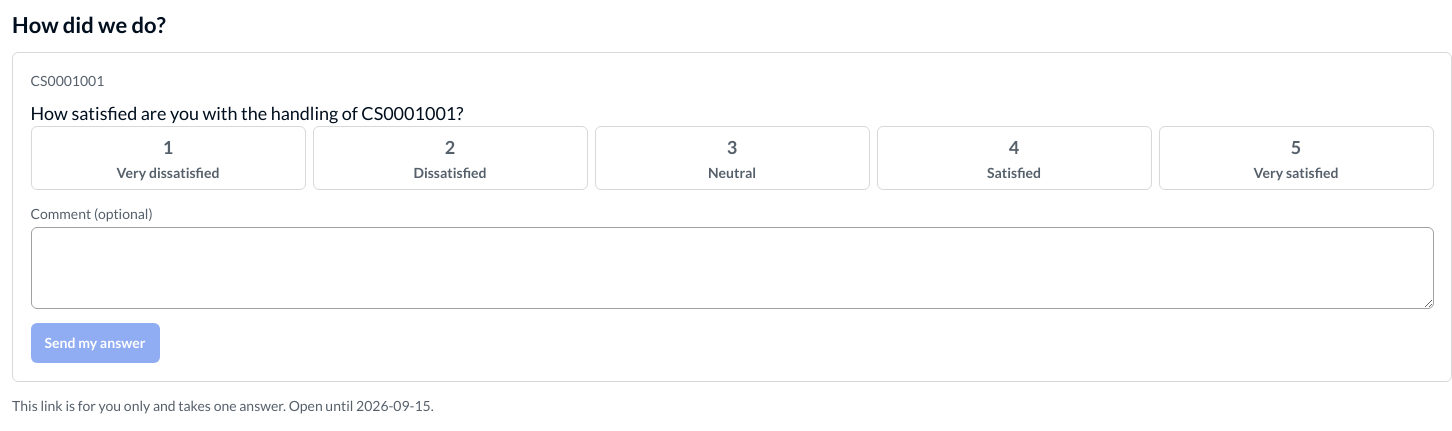
Test case: survey email link › posts the token with the score and the comment to the link route and thanks the visitor
This screenshot has width=1452, height=431.
Click the button with aria-label "5, Very satisfied" at coordinates (1296, 158), box x1=1158 y1=126 x2=1434 y2=190
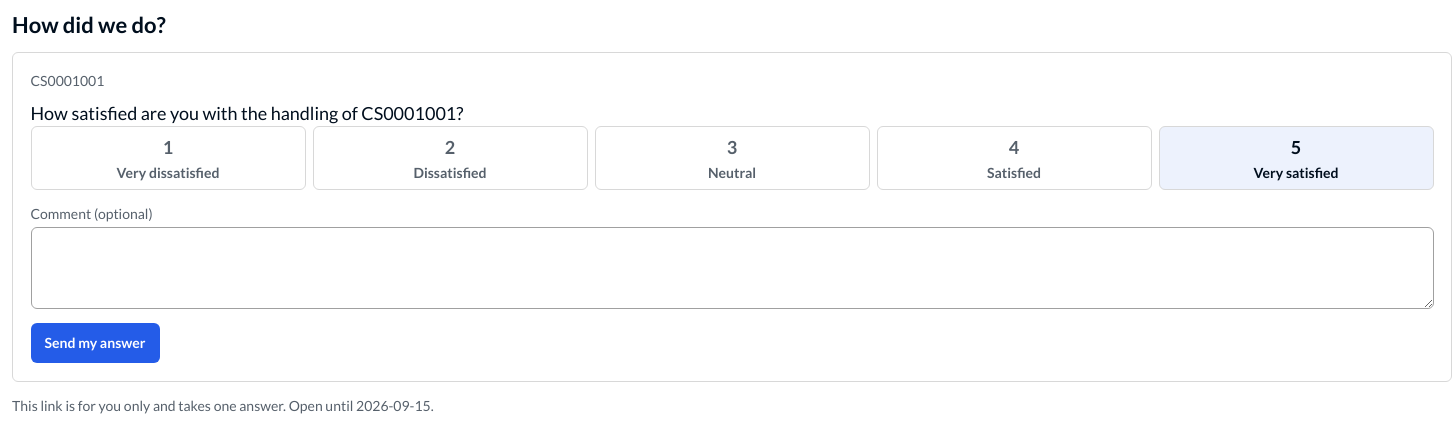
Type "Great" into the text box labelled "Comment (optional)" at coordinates (732, 268), box x1=30 y1=227 x2=1434 y2=309
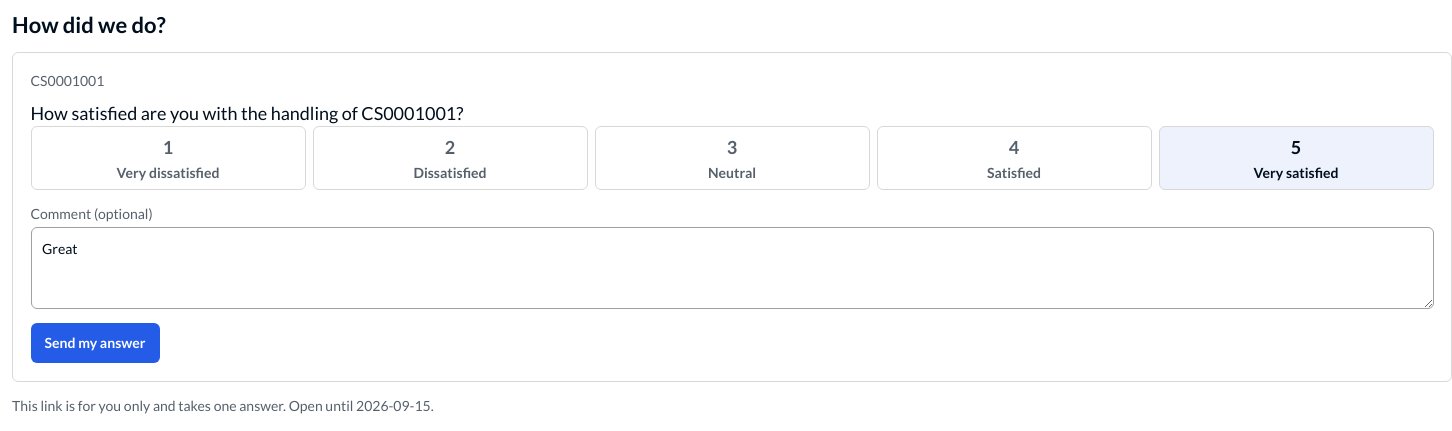
Click the button "Send my answer" at coordinates (95, 343), box x1=30 y1=323 x2=160 y2=363
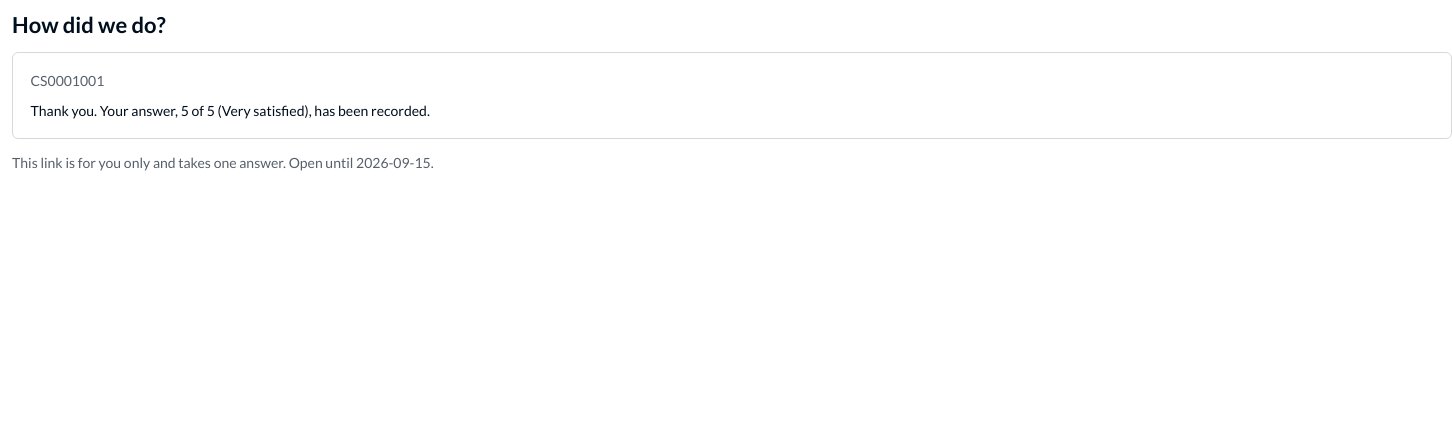
Now the message reads "Thank you. Your answer, 5 of 5 (Very satisfied), has been recorded.", box x1=30 y1=102 x2=430 y2=119
Now the button "Send my answer" is gone
